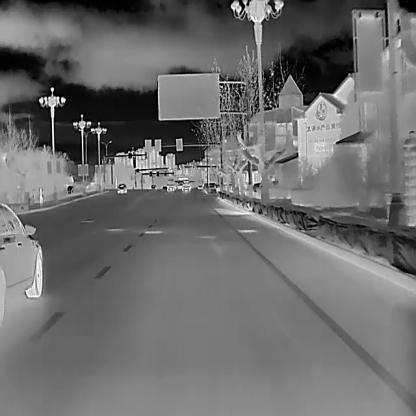car: (0, 202, 43, 324), (116, 183, 127, 194), (182, 179, 191, 191), (149, 184, 157, 190)
truck: (166, 178, 175, 192)
